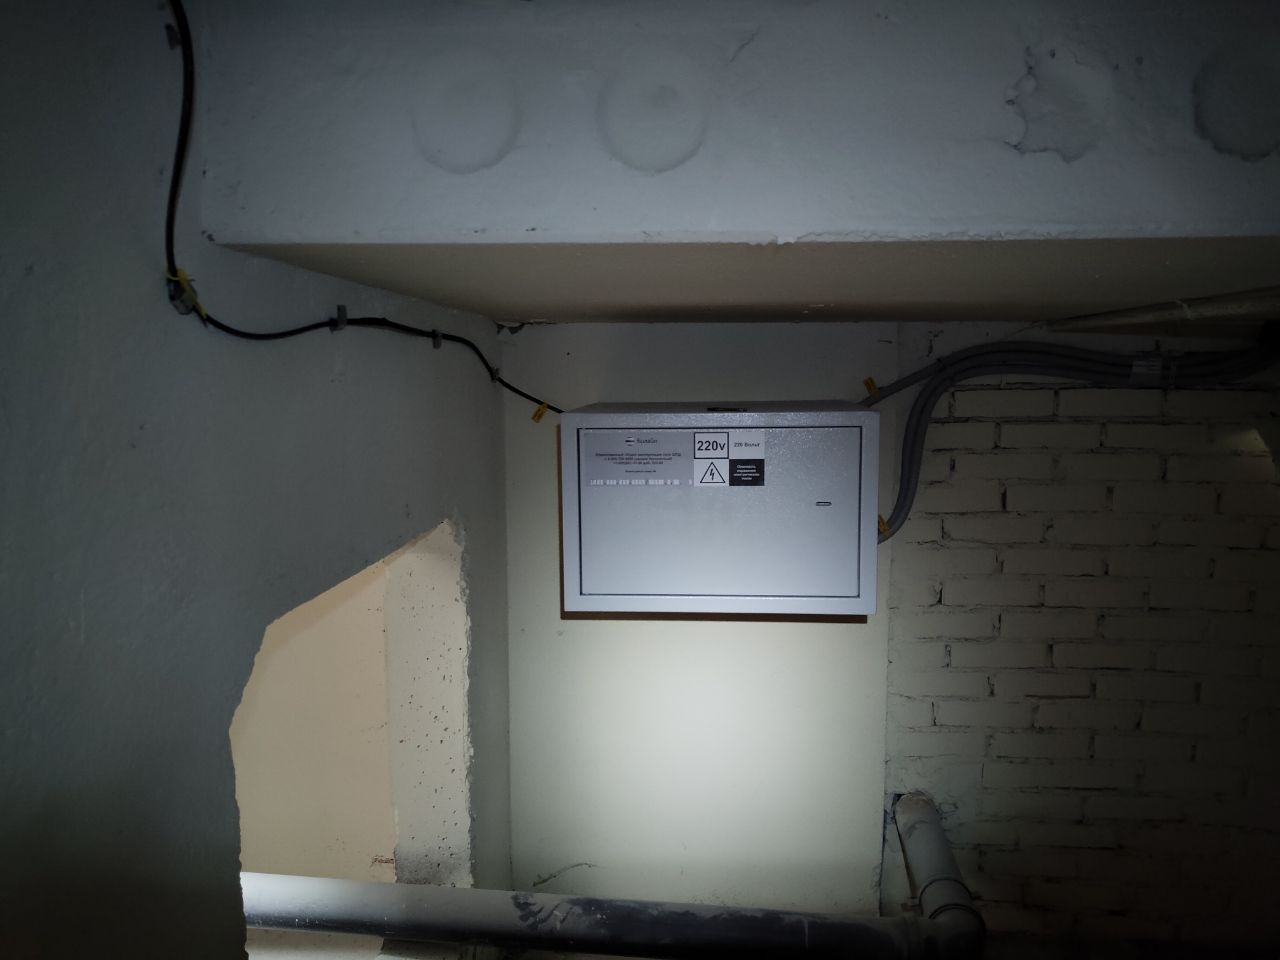shta-7m: (549, 397, 886, 630)
